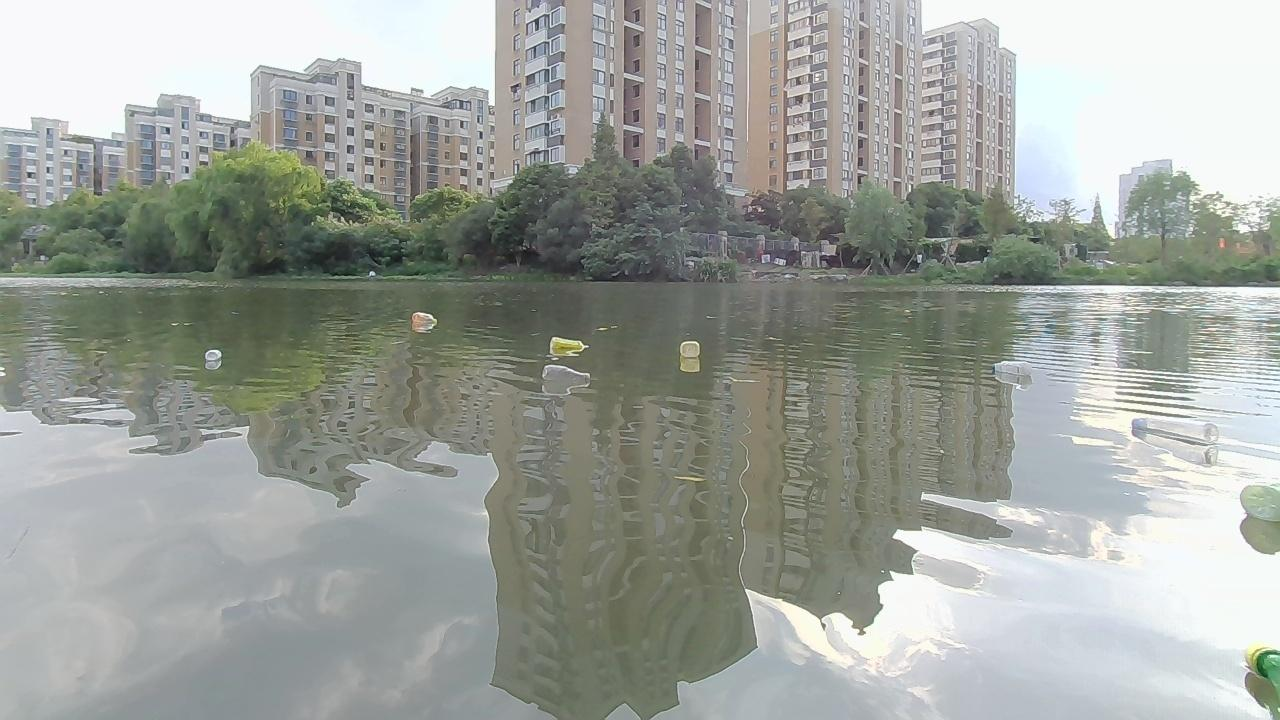bottle: (1131, 410, 1224, 453), (1241, 467, 1279, 531), (542, 363, 592, 387), (546, 334, 594, 354), (991, 362, 1031, 375), (411, 309, 434, 330), (680, 339, 698, 358), (204, 349, 223, 365)
